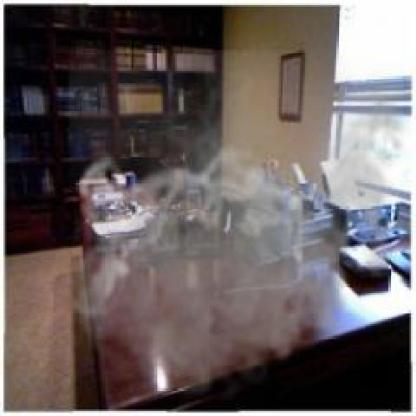Smoke: (69, 50, 415, 413)
